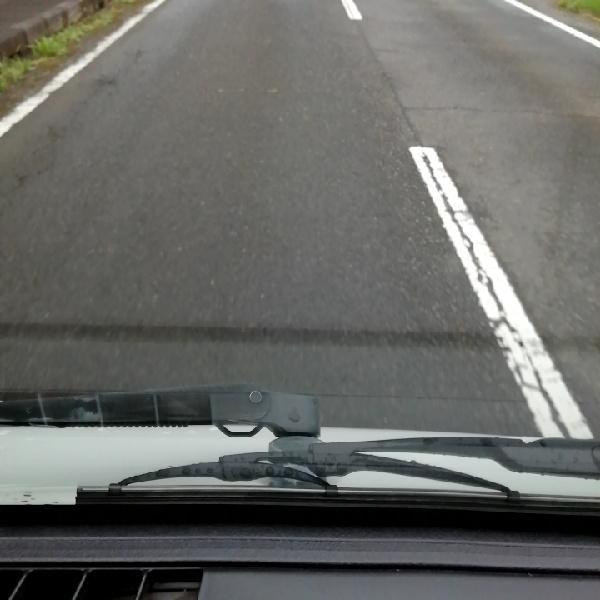D10: (401, 95, 564, 120)
